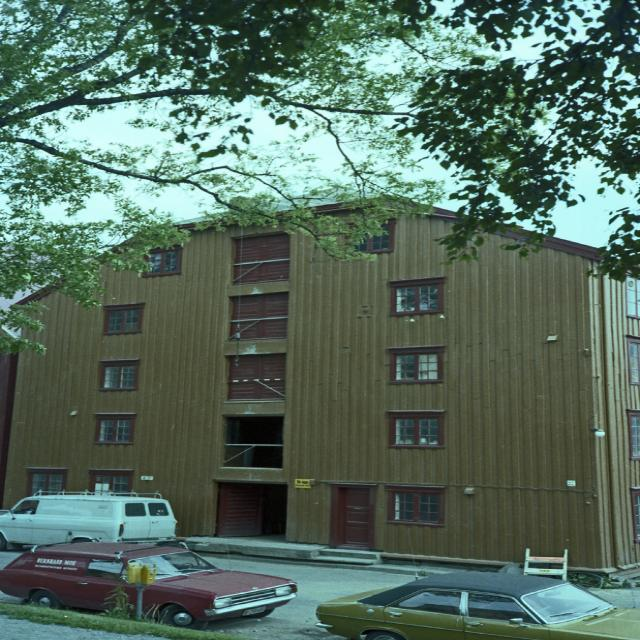car: (6, 540, 310, 627)
